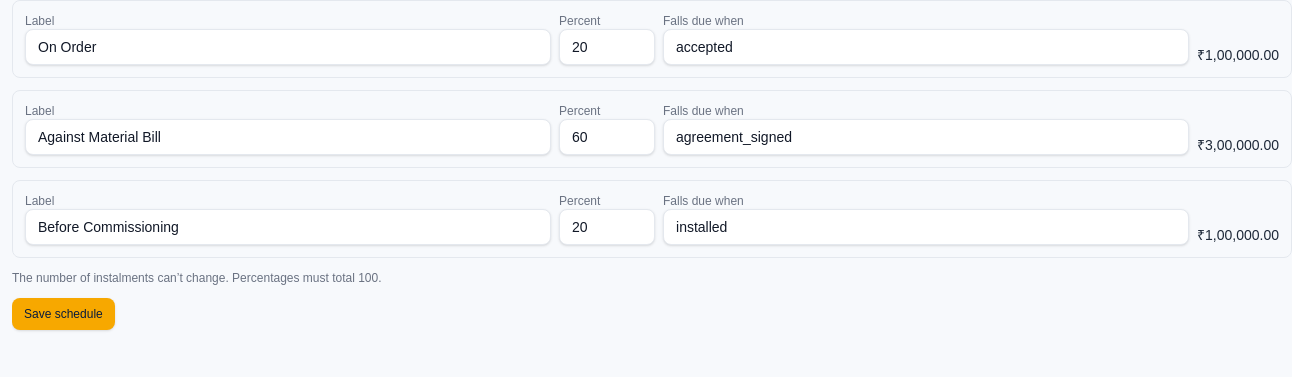
Test: PaymentScheduleEditor › explains invalid_schedule and schedule_locked from the server
The image size is (1292, 377).
Click the button "Save schedule". click: (63,314)
box: top-left (12, 298), bottom-right (115, 330)
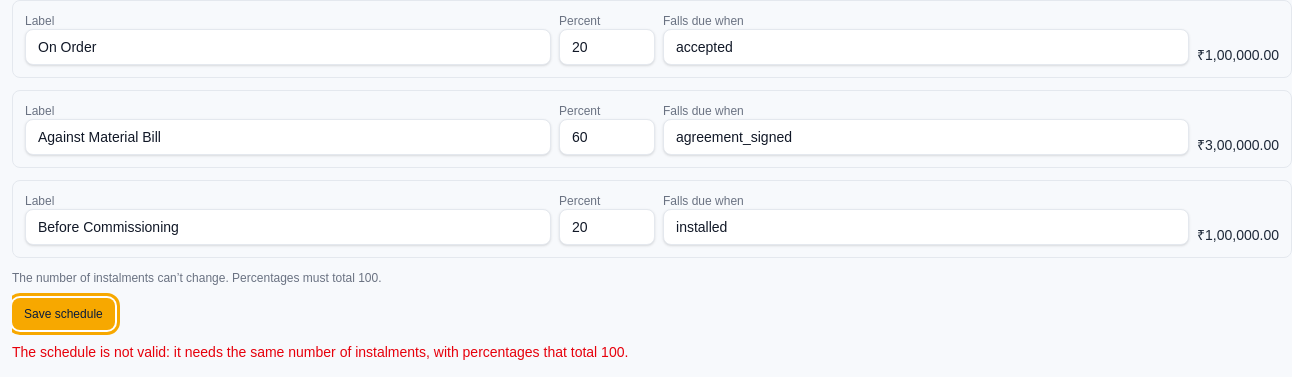
Expected: the message shows "percentages that total 100", top-left (12, 344), bottom-right (628, 360)
Click the button "Save schedule". click: (63,314)
box: top-left (12, 298), bottom-right (115, 330)
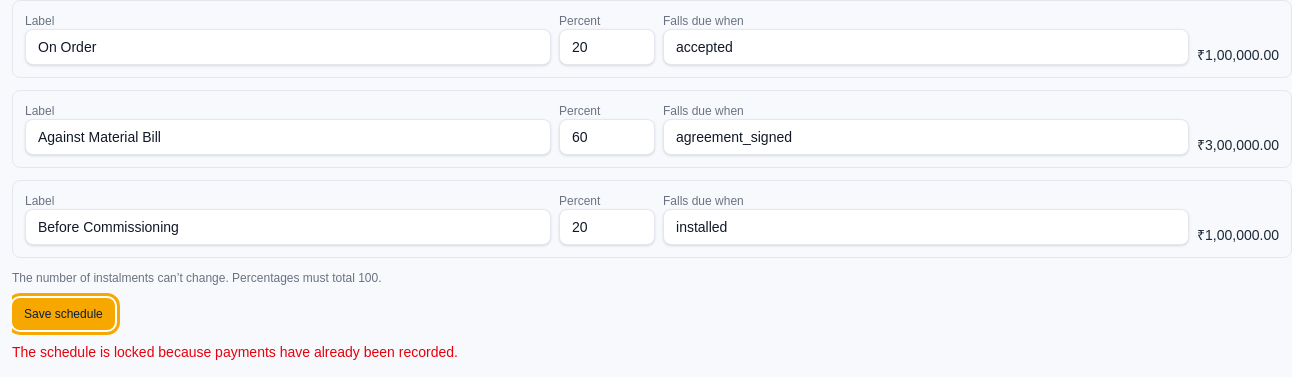
Expected: the text "The schedule is locked because payments have already been recorded." is shown, top-left (12, 344), bottom-right (458, 360)
